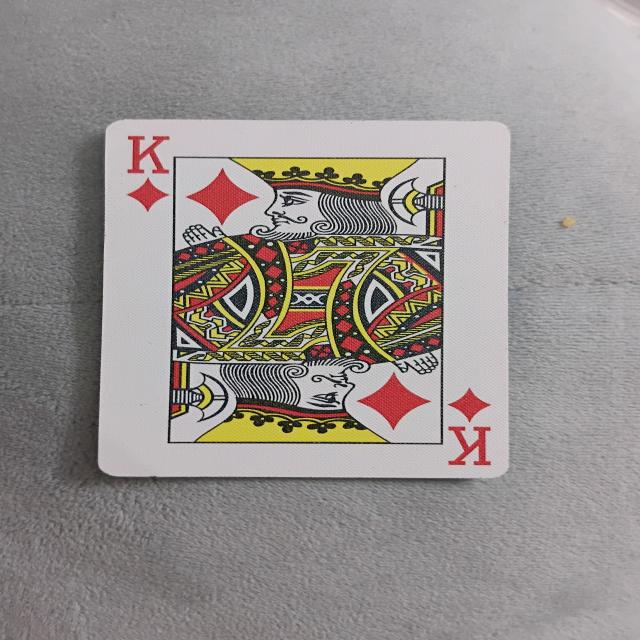KD: (111, 121, 508, 478)
